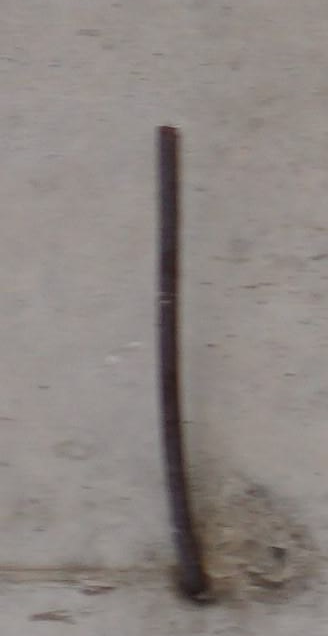Exposed reinforcement: (154, 124, 210, 594)
Spalling: (229, 468, 318, 605)
